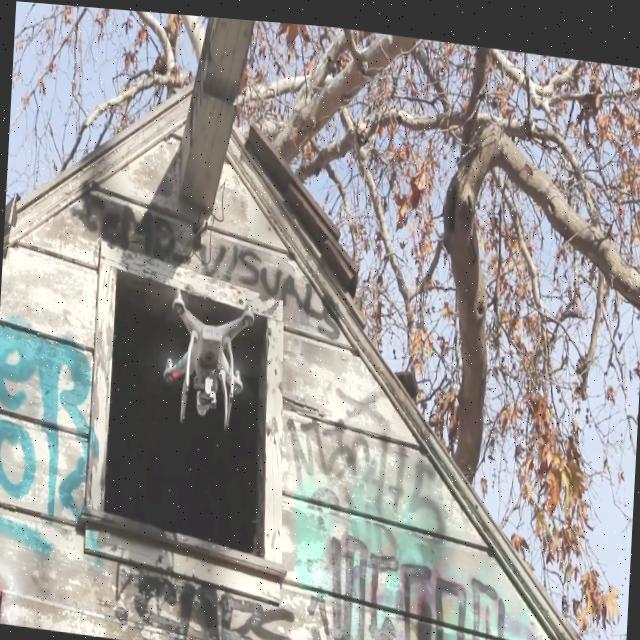drone: (160, 280, 258, 433)
